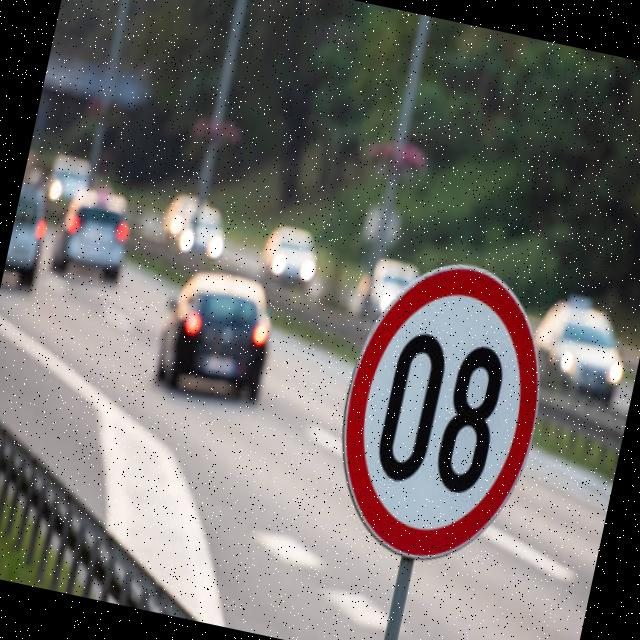speed_limit_80: (307, 234, 576, 584)
